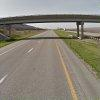Bridge: (1, 7, 97, 38)
